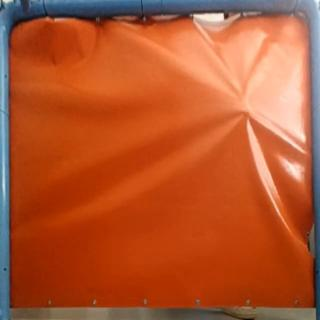Hit-hRxx: (241, 105, 253, 115)
